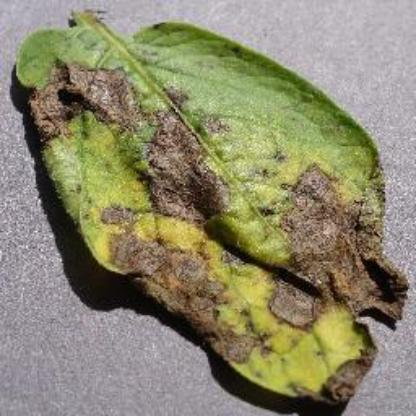Early-Blight: (15, 5, 408, 411)
